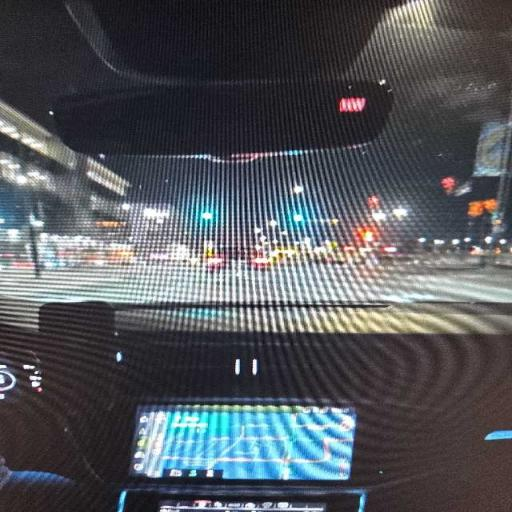car: (0, 0, 511, 511)
lane: (0, 265, 511, 306)
